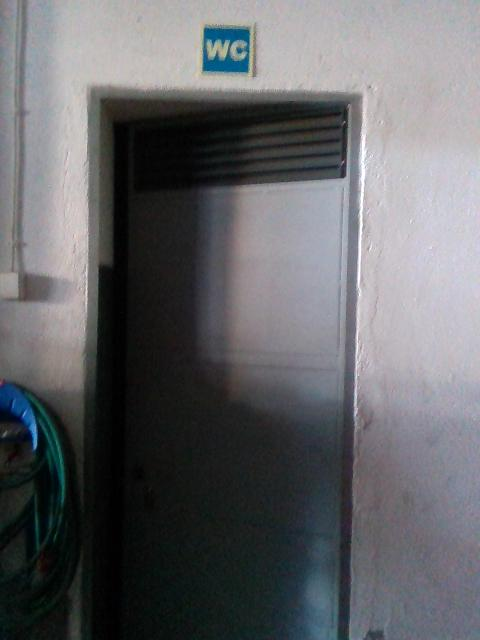door: (71, 83, 362, 636)
